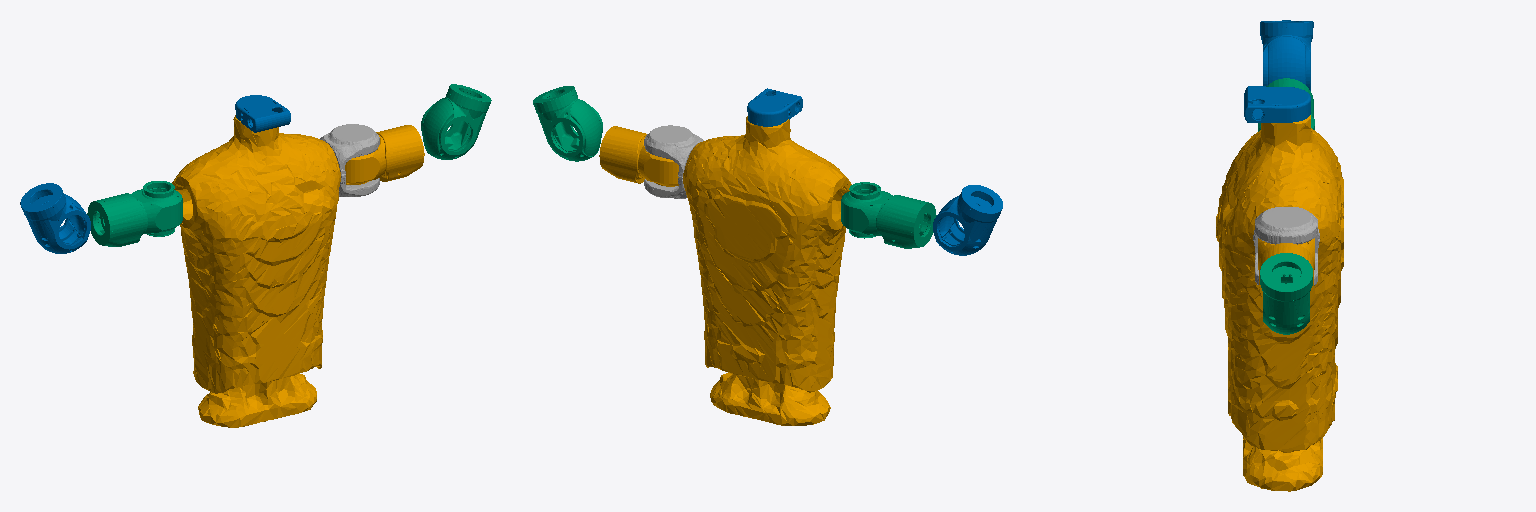
URDF robot description (pib_planning):
<?xml version='1.0' encoding='utf-8'?>
<robot name="pib_planning">
  <link name="root">
    <visual>
      <geometry>
        <mesh filename="package://pib_planning/root.obj" />
      </geometry>
    </visual>
  </link>
  <link name="c64_motor_axis_cap_inner_shoulder">
    <visual>
      <geometry>
        <mesh filename="package://pib_planning/c64_motor_axis_cap_inner_shoulder.obj" />
      </geometry>
    </visual>
  </link>
  <link name="c69_inner_part_outer_shoulder">
    <visual>
      <geometry>
        <mesh filename="package://pib_planning/c69_inner_part_outer_shoulder.obj" />
      </geometry>
    </visual>
  </link>
  <link name="c09_central_rotator_connector_1">
    <visual>
      <geometry>
        <mesh filename="package://pib_planning/c09_central_rotator_connector_1.obj" />
      </geometry>
    </visual>
  </link>
  <link name="c36_elbow_lower_shell">
    <visual>
      <geometry>
        <mesh filename="package://pib_planning/c36_elbow_lower_shell.obj" />
      </geometry>
    </visual>
  </link>
  <link name="c09_central_rotator_connector">
    <visual>
      <geometry>
        <mesh filename="package://pib_planning/c09_central_rotator_connector.obj" />
      </geometry>
    </visual>
  </link>
  <link name="d01_r_palm_right">
    <visual>
      <geometry>
        <mesh filename="package://pib_planning/d01_r_palm_right.obj" />
      </geometry>
    </visual>
  </link>
  <link name="c64_motor_axis_cap_inner_shoulder_1">
    <visual>
      <geometry>
        <mesh filename="package://pib_planning/c64_motor_axis_cap_inner_shoulder_1.obj" />
      </geometry>
    </visual>
  </link>
  <link name="c69_inner_part_outer_shoulder_1">
    <visual>
      <geometry>
        <mesh filename="package://pib_planning/c69_inner_part_outer_shoulder_1.obj" />
      </geometry>
    </visual>
  </link>
  <link name="c09_central_rotator_connector_2">
    <visual>
      <geometry>
        <mesh filename="package://pib_planning/c09_central_rotator_connector_2.obj" />
      </geometry>
    </visual>
  </link>
  <link name="c36_elbow_lower_shell_1">
    <visual>
      <geometry>
        <mesh filename="package://pib_planning/c36_elbow_lower_shell_1.obj" />
      </geometry>
    </visual>
  </link>
  <link name="c09_central_rotator_connector_3">
    <visual>
      <geometry>
        <mesh filename="package://pib_planning/c09_central_rotator_connector_3.obj" />
      </geometry>
    </visual>
  </link>
  <link name="a71_inner_part">
    <visual>
      <geometry>
        <mesh filename="package://pib_planning/a71_inner_part.obj" />
      </geometry>
    </visual>
  </link>
  <link name="a81_motor_shaft">
    <visual>
      <geometry>
        <mesh filename="package://pib_planning/a81_motor_shaft.obj" />
      </geometry>
    </visual>
  </link>
  <link name="d01_l_palm_left" />
  <joint name="d01_l_palm_left_frame" type="fixed">
    <origin xyz="-9.55033327e-08 -0.1704 -0.026" rpy="-1.57079265 1.57079265 -3.14159265" />
    <parent link="c09_central_rotator_connector_3" />
    <child link="d01_l_palm_left" />
  </joint>
  <joint name="central_rotator_rotation" type="revolute">
    <origin xyz="-0.0002 0.0371999932 -0.125" rpy="1.5708 -1.00704451e-16 -1.60812398e-16" />
    <parent link="c69_inner_part_outer_shoulder" />
    <child link="c09_central_rotator_connector_1" />
    <axis xyz="0 1 0" />
    <limit effort="1" velocity="1" lower="-1.5708" upper="1.5708" />
  </joint>
  <joint name="central_rotator_rotation_1" type="revolute">
    <origin xyz="-0.0002 0.0371999932 -0.125" rpy="1.5708 -8.9234209e-14 1.69880336e-14" />
    <parent link="c69_inner_part_outer_shoulder_1" />
    <child link="c09_central_rotator_connector_2" />
    <axis xyz="0 1 0" />
    <limit effort="1" velocity="1" lower="-1.5708" upper="1.5708" />
  </joint>
  <joint name="gearing_rotation__new_body_" type="revolute">
    <origin xyz="-0.074 0.106 -0.1421" rpy="6.12323e-17 6.12323e-17 1.09362e-16" />
    <parent link="root" />
    <child link="a71_inner_part" />
    <axis xyz="-0 -0 -1" />
    <limit effort="1" velocity="1" lower="-1.5708" upper="1.5708" />
  </joint>
  <joint name="nodding_rotation" type="revolute">
    <origin xyz="-0.0415 -0.048 0.026" rpy="-2.25926e-15 5.61727e-19 -1.21612e-16" />
    <parent link="a71_inner_part" />
    <child link="a81_motor_shaft" />
    <axis xyz="1 -0 -0" />
    <limit effort="1" velocity="1" lower="-0.785398" upper="0.785398" />
  </joint>
  <joint name="rotate_forearm" type="revolute">
    <origin xyz="-0.033 0.021 -0.067" rpy="1.5708 2.23136485e-16 2.25736312e-15" />
    <parent link="c36_elbow_lower_shell" />
    <child link="c09_central_rotator_connector" />
    <axis xyz="0 1 0" />
    <limit effort="1" velocity="1" lower="-1.5708" upper="1.5708" />
  </joint>
  <joint name="rotate_forearm_1" type="revolute">
    <origin xyz="0.033 0.021 -0.067" rpy="1.5708 1.70444991e-15 -6.34659439e-15" />
    <parent link="c36_elbow_lower_shell_1" />
    <child link="c09_central_rotator_connector_3" />
    <axis xyz="0 1 0" />
    <limit effort="1" velocity="1" lower="-1.5708" upper="1.5708" />
  </joint>
  <joint name="rotation_elbow" type="revolute">
    <origin xyz="0.033 -0.0979999229 0.0210002737" rpy="-2.7489 -1.45535006e-15 2.33552902e-15" />
    <parent link="c09_central_rotator_connector_1" />
    <child link="c36_elbow_lower_shell" />
    <axis xyz="1 0 0" />
    <limit effort="1" velocity="1" lower="-1.1781" upper="1.1781" />
  </joint>
  <joint name="rotation_elbow_1" type="revolute">
    <origin xyz="-0.033 -0.0979999229 0.0210002949" rpy="-2.74889 -1.12322486e-17 7.0419652e-12" />
    <parent link="c09_central_rotator_connector_2" />
    <child link="c36_elbow_lower_shell_1" />
    <axis xyz="-1 -0 -0" />
    <limit effort="1" velocity="1" lower="-1.1781" upper="1.1781" />
  </joint>
  <joint name="rotation_inner_shoulder" type="revolute">
    <origin xyz="0.087 0.106 -0.2836" rpy="3.14159 7.65526678e-19 5.6405998e-17" />
    <parent link="root" />
    <child link="c64_motor_axis_cap_inner_shoulder_1" />
    <axis xyz="-1 0 0" />
    <limit effort="1" velocity="1" lower="-3.141592653589793" upper="3.141592653589793" />
  </joint>
  <joint name="rotation_inner_shoulder_1" type="revolute">
    <origin xyz="-0.235 0.106000177 -0.2836" rpy="3.14159 8.60300059e-17 3.14159" />
    <parent link="root" />
    <child link="c64_motor_axis_cap_inner_shoulder" />
    <axis xyz="-1 0 0" />
    <limit effort="1" velocity="1" lower="-3.141592653589793" upper="3.141592653589793" />
  </joint>
  <joint name="rotation_shoulder_left" type="revolute">
    <origin xyz="0.0649 1.3664323e-07 -0.0372" rpy="1.57079633 3.6732051e-06 -1.5708" />
    <parent link="c64_motor_axis_cap_inner_shoulder" />
    <child link="c69_inner_part_outer_shoulder" />
    <axis xyz="0 -1 0" />
    <limit effort="1" velocity="1" lower="-1.5708" upper="1.5708" />
  </joint>
  <joint name="rotation_shoulder_left_1" type="revolute">
    <origin xyz="0.0649 1.36643228e-07 -0.0372" rpy="1.57079633 3.6732051e-06 -1.5708" />
    <parent link="c64_motor_axis_cap_inner_shoulder_1" />
    <child link="c69_inner_part_outer_shoulder_1" />
    <axis xyz="0 -1 0" />
    <limit effort="1" velocity="1" lower="-1.5708" upper="1.5708" />
  </joint>
  <joint name="rotation_wrist_right" type="revolute">
    <origin xyz="-9.55033323e-08 -0.1704 0.026" rpy="-1.57079265 -1.57079265 -3.14159265" />
    <parent link="c09_central_rotator_connector" />
    <child link="d01_r_palm_right" />
    <axis xyz="1 0 0" />
    <limit effort="1" velocity="1" lower="-3.141592653589793" upper="3.141592653589793" />
  </joint>
</robot>

--- What the picture shows (computed from the rendered views, not written in the file) ---
3 views of the same robot in one strip: view 1: azimuth 30°, elevation 25°; view 2: azimuth 150°, elevation 25°; view 3: azimuth 270°, elevation 25° (orthographic).
Model pib_planning with 15 links and 14 joints (13 revolute, 1 fixed), rooted at root, posed all joints at 0.
Links seen in each view (by area): view 1: root, c69_inner_part_outer_shoulder, c36_elbow_lower_shell_1, c36_elbow_lower_shell, c69_inner_part_outer_shoulder_1, c64_motor_axis_cap_inner_shoulder_1, a71_inner_part; view 2: root, c69_inner_part_outer_shoulder, c36_elbow_lower_shell_1, c36_elbow_lower_shell, c69_inner_part_outer_shoulder_1, c64_motor_axis_cap_inner_shoulder_1, a71_inner_part; view 3: root, c36_elbow_lower_shell_1, c36_elbow_lower_shell, c64_motor_axis_cap_inner_shoulder_1, a71_inner_part, c69_inner_part_outer_shoulder_1.
Link boxes in pixels (<box>): root: <box>172,115,340,427</box>; c69_inner_part_outer_shoulder: <box>87,181,182,246</box>; c36_elbow_lower_shell_1: <box>421,84,491,159</box>; c36_elbow_lower_shell: <box>20,183,90,253</box>; c69_inner_part_outer_shoulder_1: <box>345,125,424,184</box>; c64_motor_axis_cap_inner_shoulder_1: <box>320,124,379,196</box>; a71_inner_part: <box>235,95,290,132</box>; root: <box>683,116,851,425</box>; c69_inner_part_outer_shoulder: <box>841,182,936,248</box>; c36_elbow_lower_shell_1: <box>533,86,602,161</box>; c36_elbow_lower_shell: <box>933,185,1002,255</box>; c69_inner_part_outer_shoulder_1: <box>599,126,678,186</box>; c64_motor_axis_cap_inner_shoulder_1: <box>644,125,703,198</box>; a71_inner_part: <box>747,88,802,126</box>; root: <box>1216,115,1343,491</box>; c36_elbow_lower_shell_1: <box>1260,253,1312,334</box>; c36_elbow_lower_shell: <box>1260,20,1313,90</box>; c64_motor_axis_cap_inner_shoulder_1: <box>1253,207,1319,285</box>; a71_inner_part: <box>1244,86,1310,122</box>; c69_inner_part_outer_shoulder_1: <box>1258,238,1314,298</box>.
Bounding box of the posed robot: 1.08 × 0.2156 × 0.6768 m (x, y, z).
7 mesh visuals loaded from 14 distinct referenced files (7 OBJ); not drawn: 7 (reference not matched to a file when rendering).
